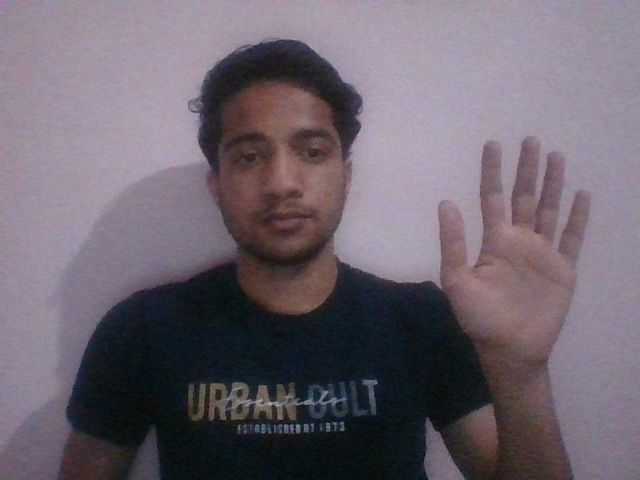Hello: (435, 135, 597, 363)
